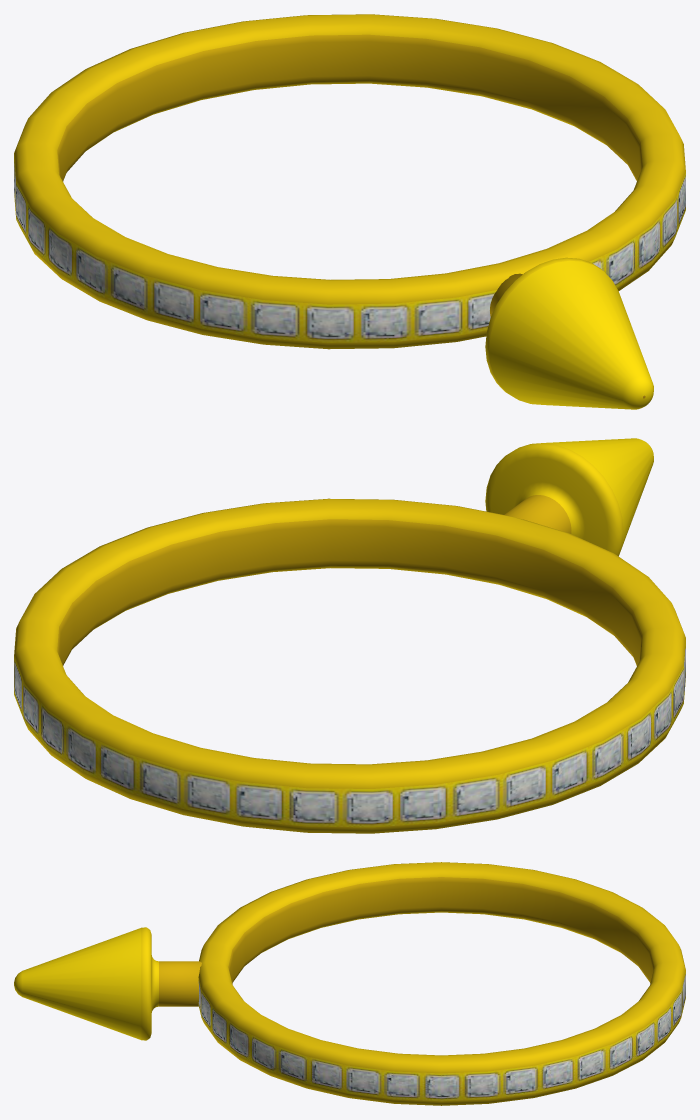
File: piercing 3.fbx
3 views of the same model, one above another, from view 1: azimuth 30°, elevation 25°; view 2: azimuth 150°, elevation 25°; view 3: azimuth 270°, elevation 25° (orthographic). The views are drawn at different scales.
Visible parts, largest first — view 1: Cylinder.003; view 2: Cylinder.003; view 3: Cylinder.003.
Boxes of the visible parts, left/top/right/bottom form: Cylinder.003: left=14, top=14, right=685, bottom=409; Cylinder.003: left=14, top=438, right=685, bottom=833; Cylinder.003: left=14, top=862, right=685, bottom=1105.
Size of the model in its own units: 259 by 59.99 by 355.
1 material, 1 textured.
